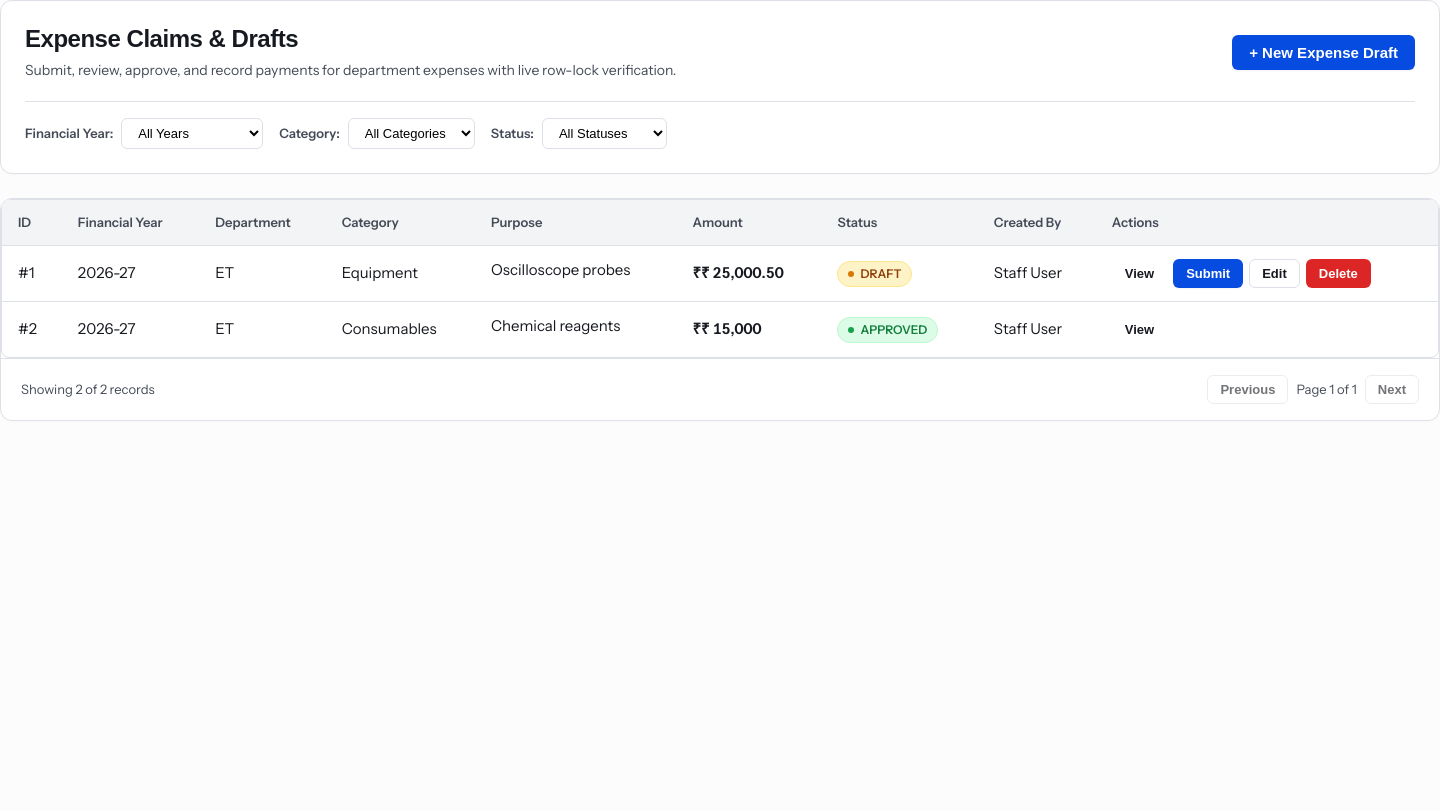
it: Expenses & Balances Frontend (Iteration 4a) › ExpensesPage Component › shows approval trail in detail modal
Click the button "View" in the row of "#1" at (1140, 273), box x1=1112 y1=259 x2=1167 y2=288
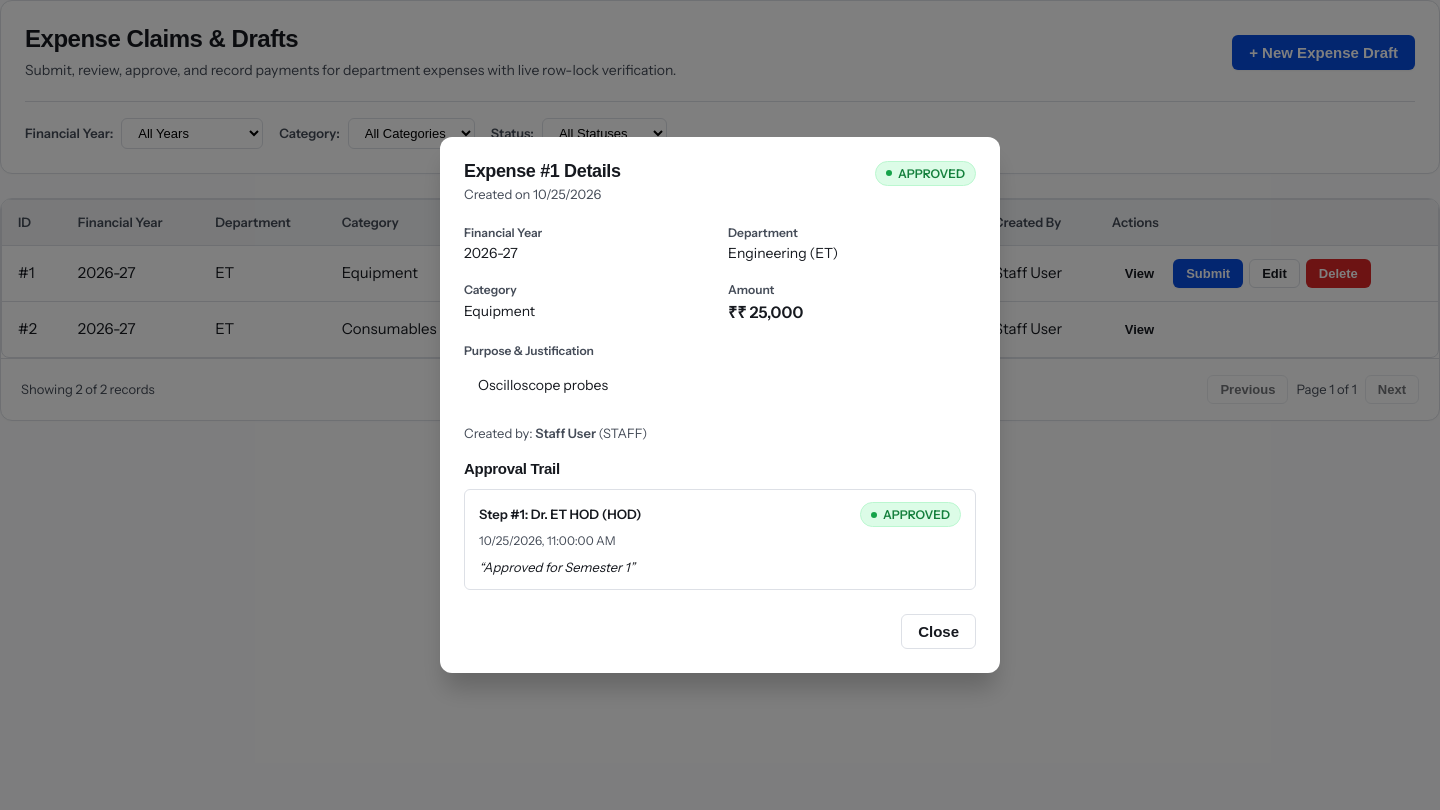
Expected: the heading "Expense #1 Details" is shown, x1=464 y1=161 x2=621 y2=181
Expected: the text "Step #1: Dr. ET HOD (HOD)" is shown, x1=479 y1=504 x2=641 y2=525
Expected: the text "“Approved for Semester 1”" is shown, x1=479 y1=559 x2=635 y2=575
